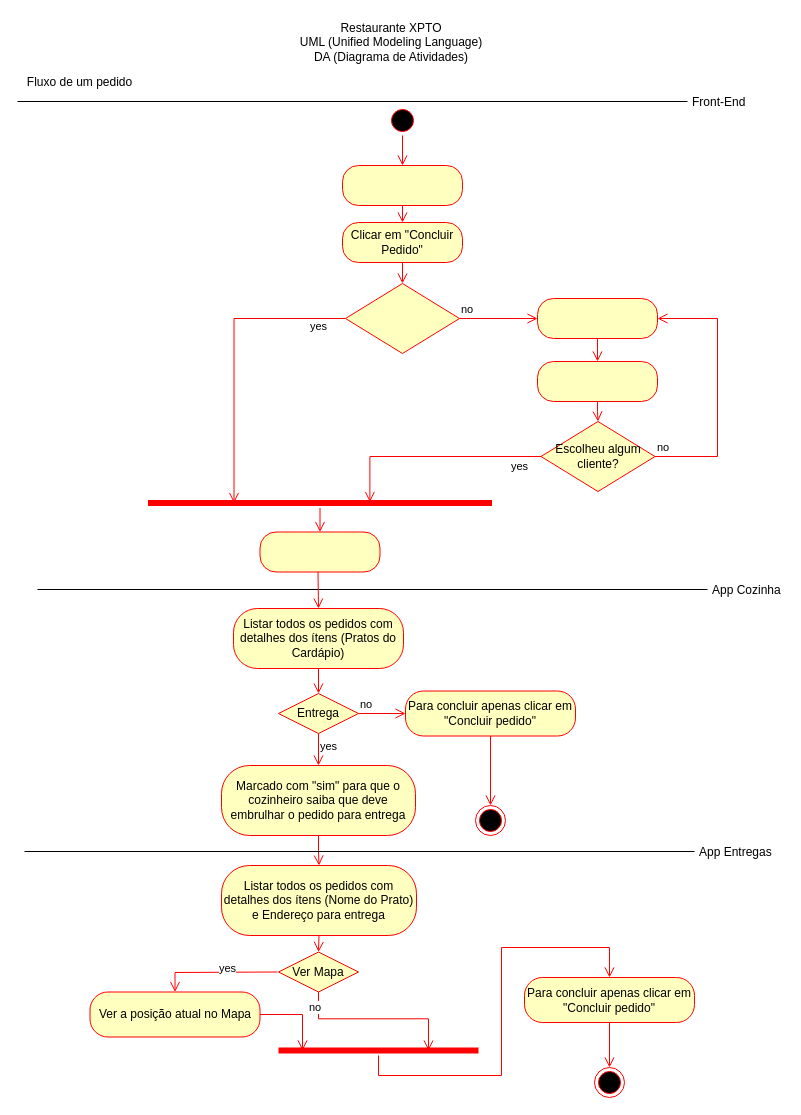
Image size: 801x1115. Some labels were removed from this diagram. Each missing label, with the centre of its shape:
Clicar em "Enviar para a Cozinha": (x=319, y=551)
Escolher Cliente: (x=597, y=318)
Escolher Cliente e Motoboy: (x=597, y=381)
Escolher itens do pedido: (x=402, y=185)
Para comer no local?: (x=402, y=318)
